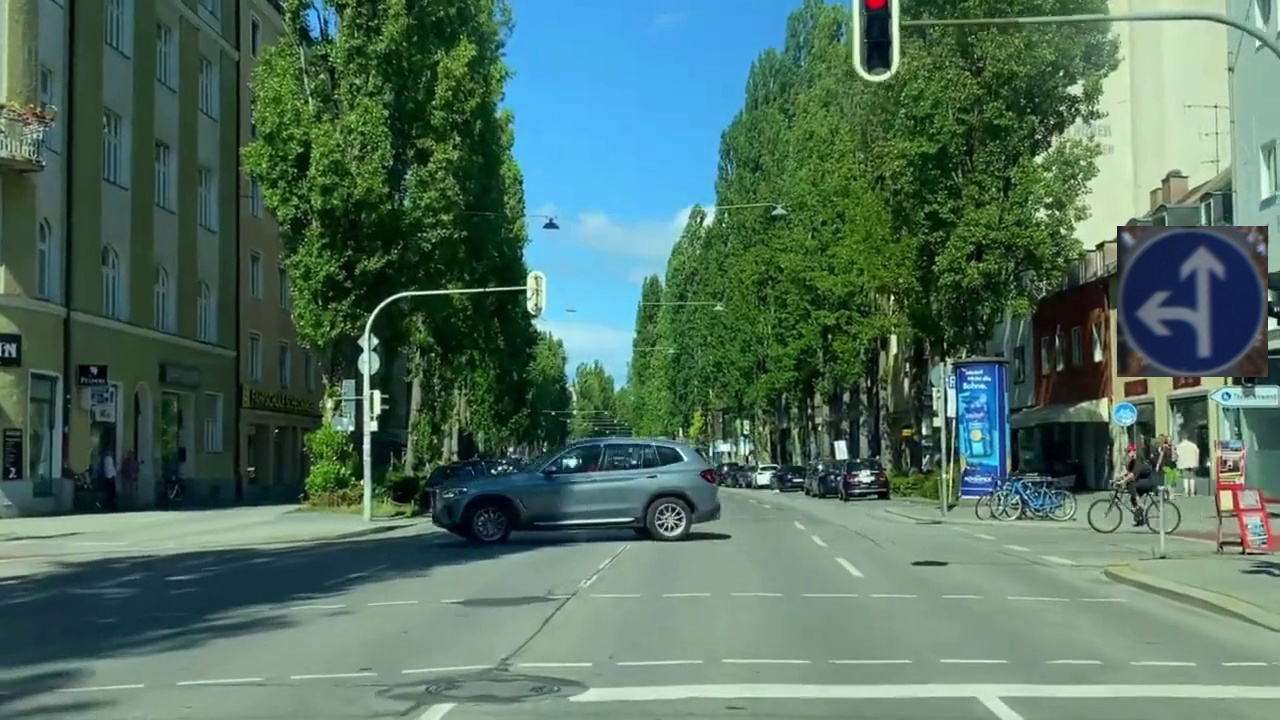Straight/left: (1117, 226, 1268, 377)
